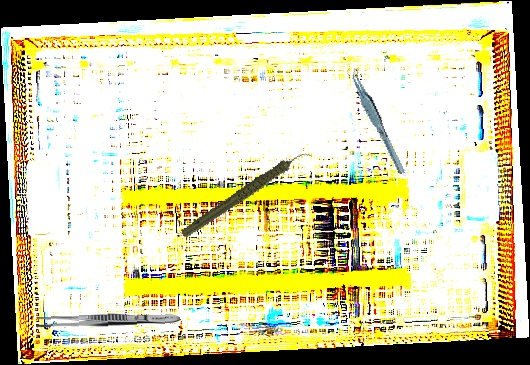Dressing Forceps: (35, 310, 181, 331)
Handpiece: (170, 150, 323, 239)
Tissue Forceps: (349, 63, 406, 179)
